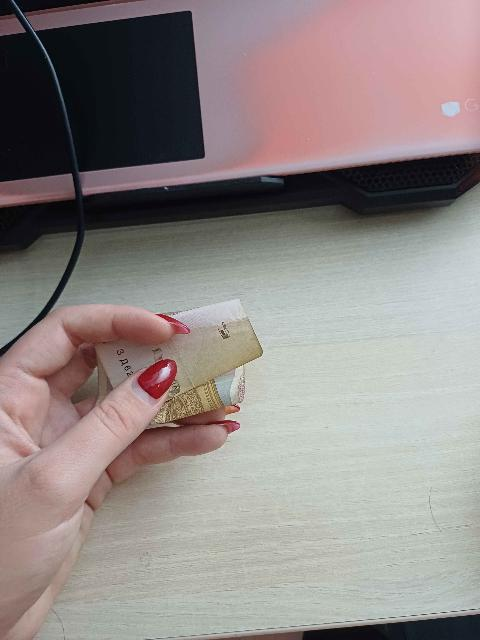100_note: (96, 300, 261, 423)
